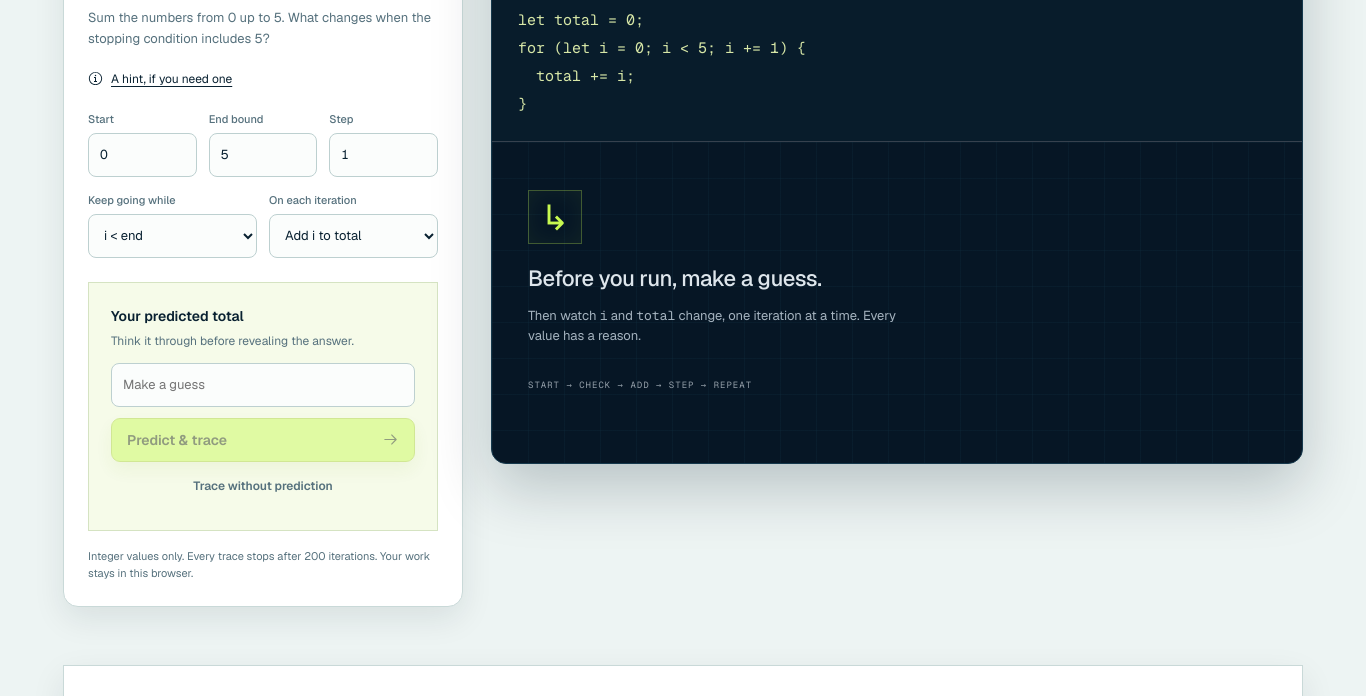
Test: learning flow › keeps results hidden until prediction then exposes a stepped trace and first divergence
The image size is (1366, 696).
(page scrolled)
In the number field labelled "Your predicted total": coordinates (263, 385) [111,363,415,407], type "15"
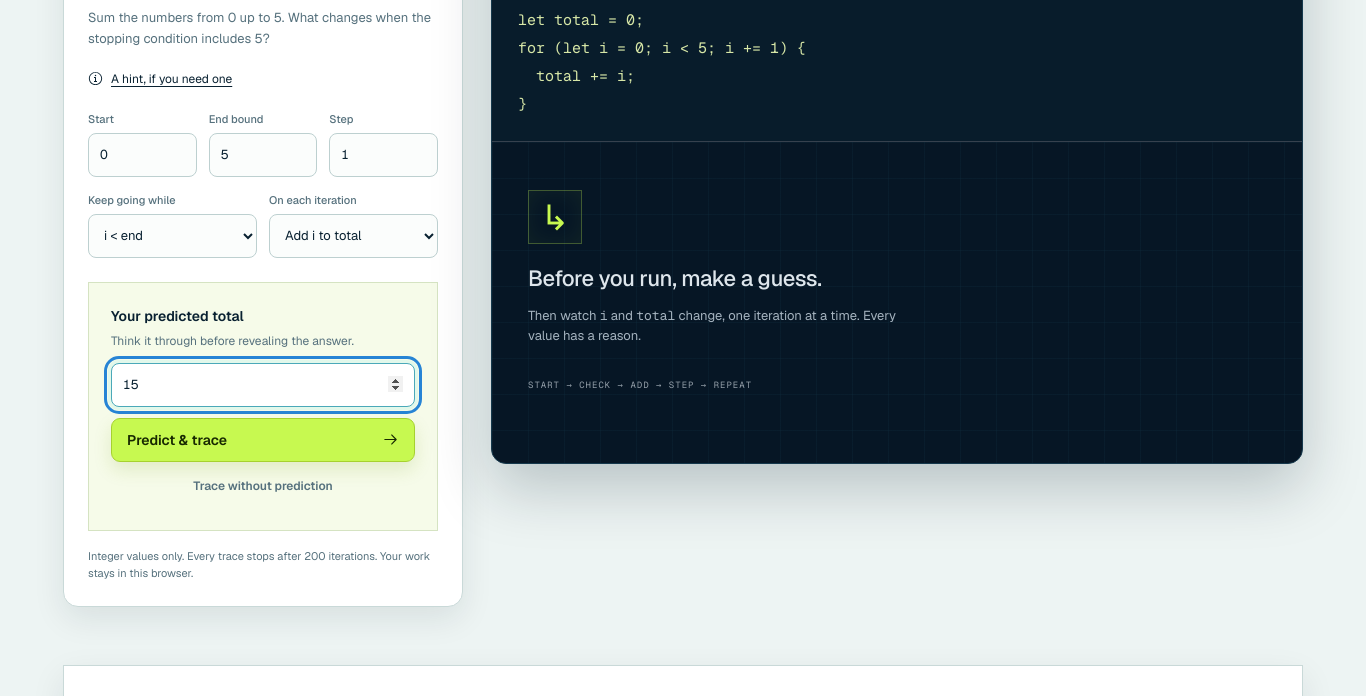
Click the button "Predict & trace": coordinates (177, 440) [111,418,415,462]
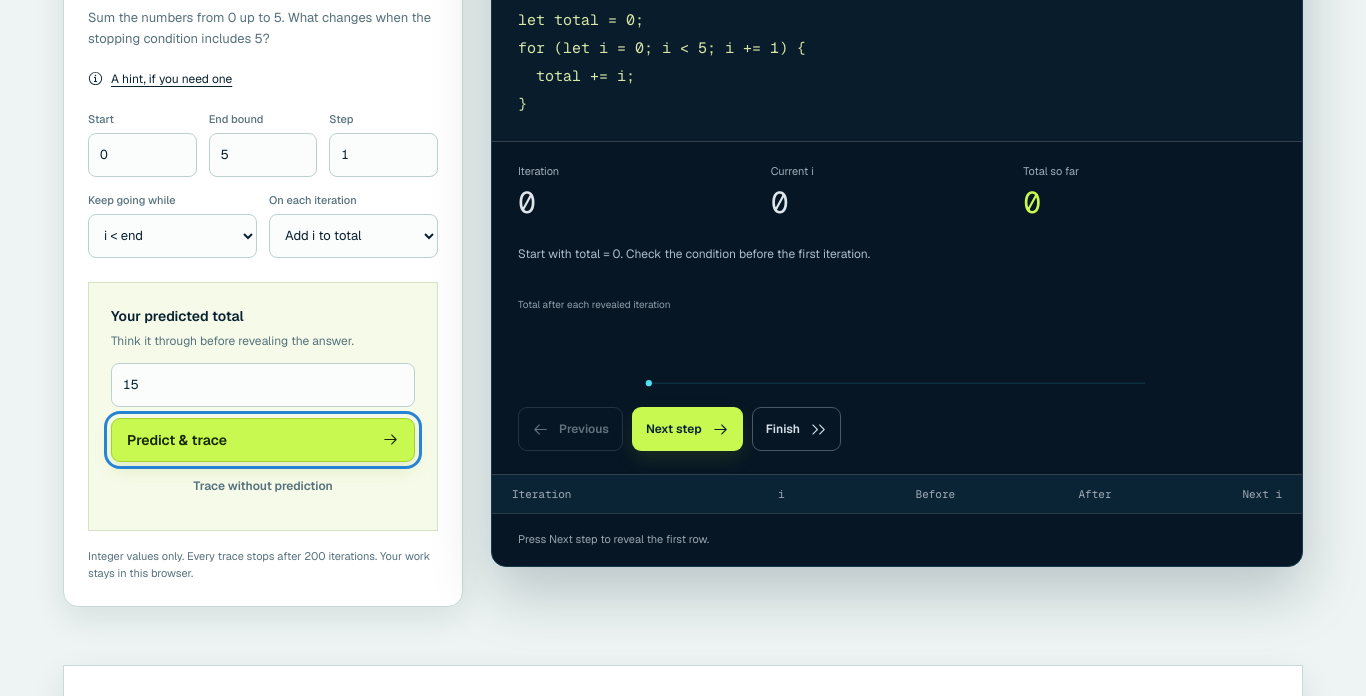
Click the button "Next step": coordinates (687, 429) [632,407,743,451]
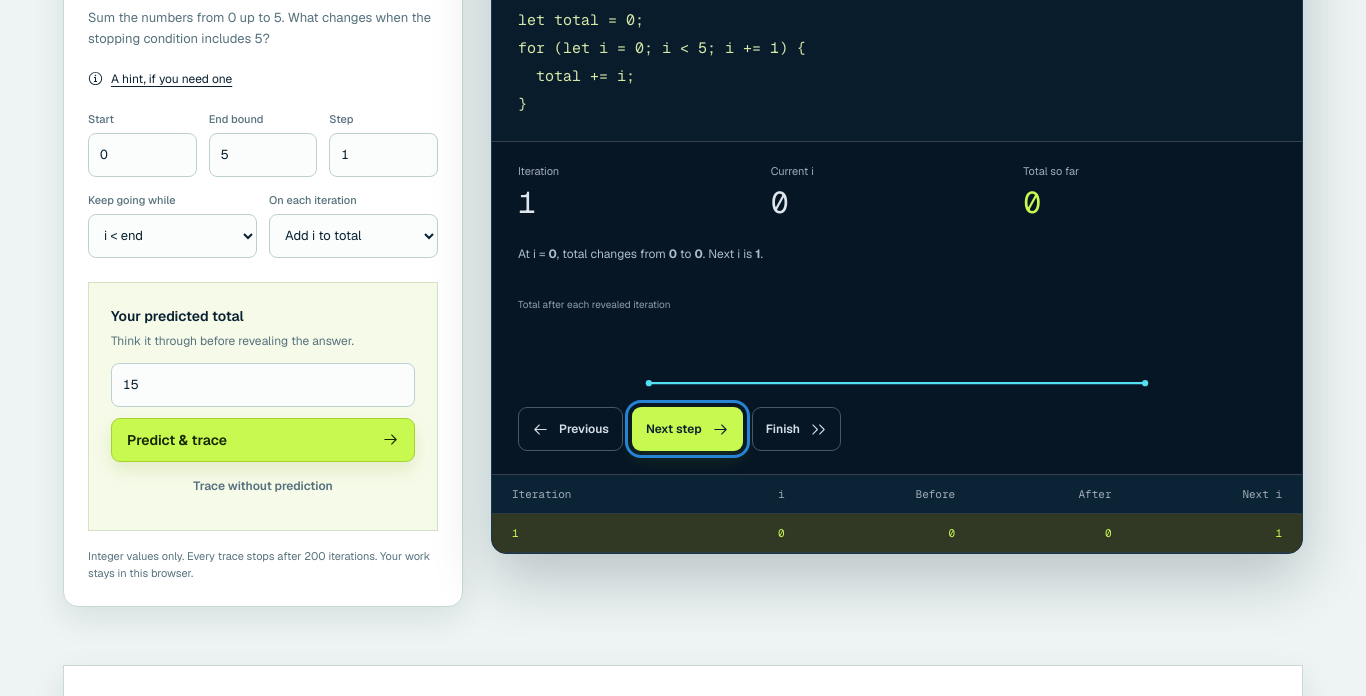
Check: the number of rows is 2, box [492,475,1302,514]; [492,514,1302,552]
Click the button with aria-label "Finish trace": coordinates (796, 429) [752,407,841,451]
(page scrolled)
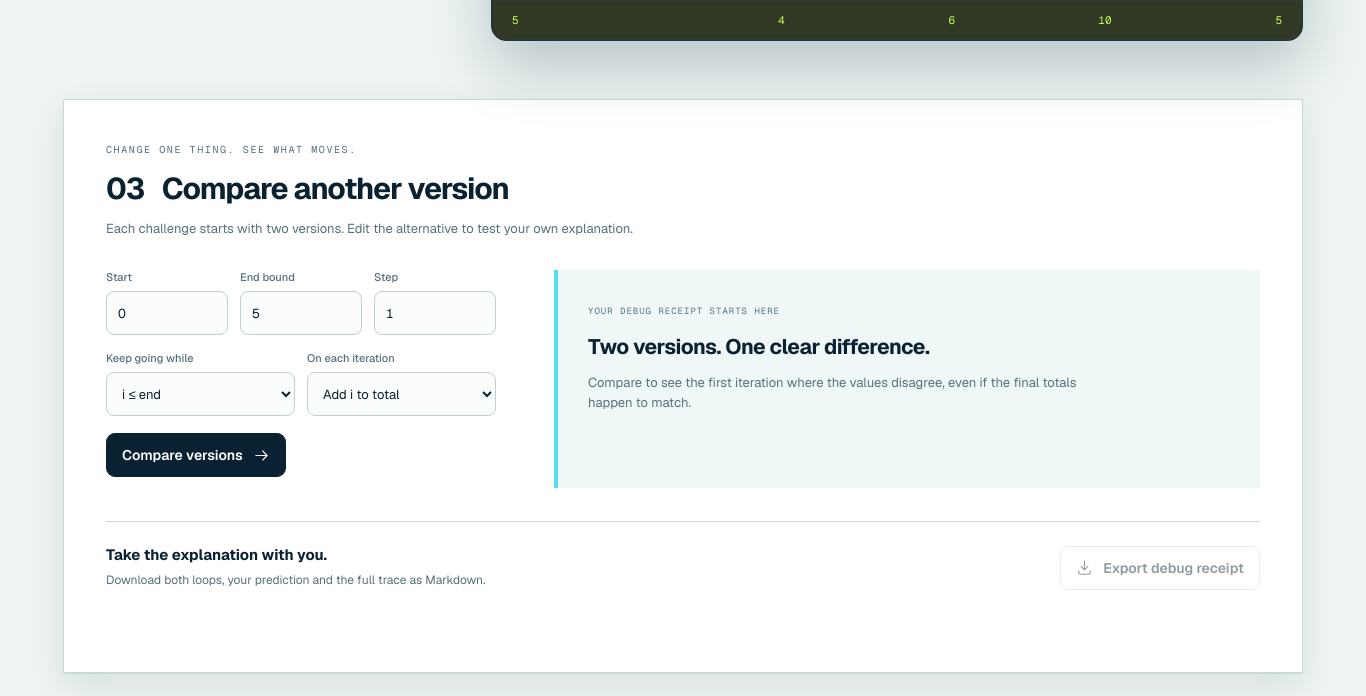
Click the button "Compare versions": coordinates (196, 455) [106,433,286,477]
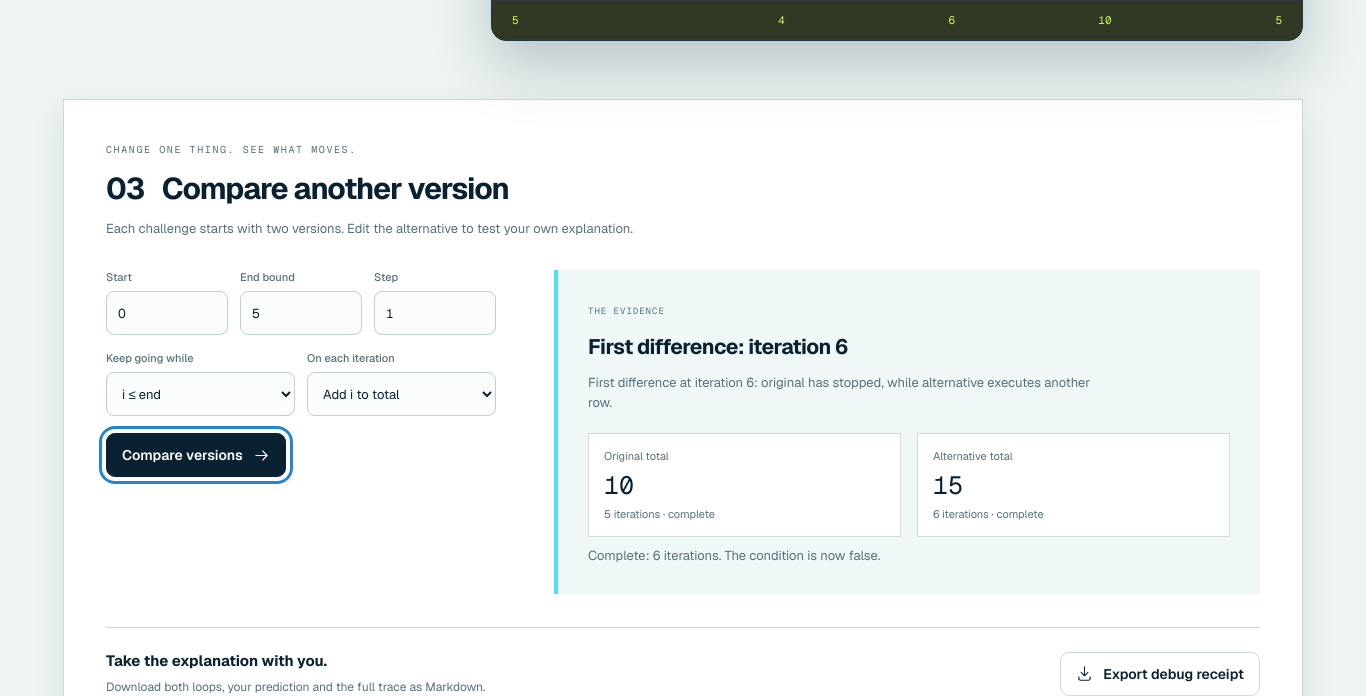
Check: the heading "First difference: iteration 6" is shown, box [588,333,848,360]
